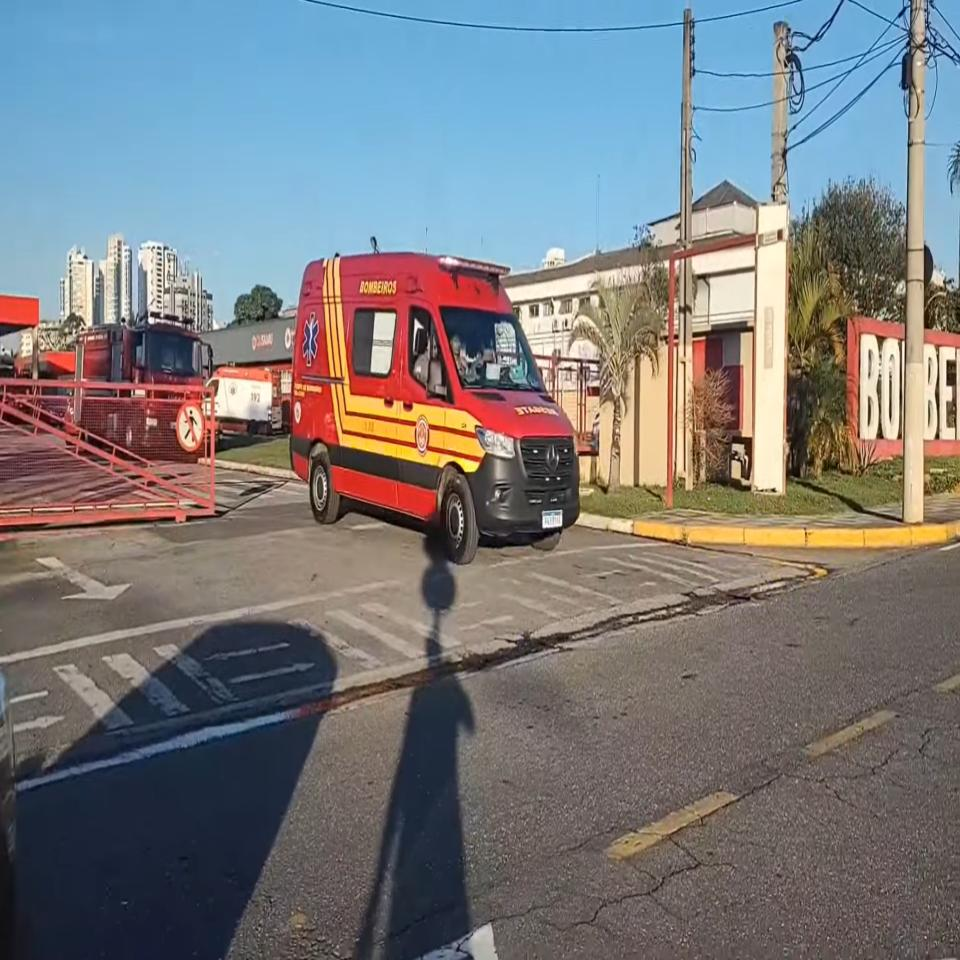viatura: (289, 252, 580, 564)
